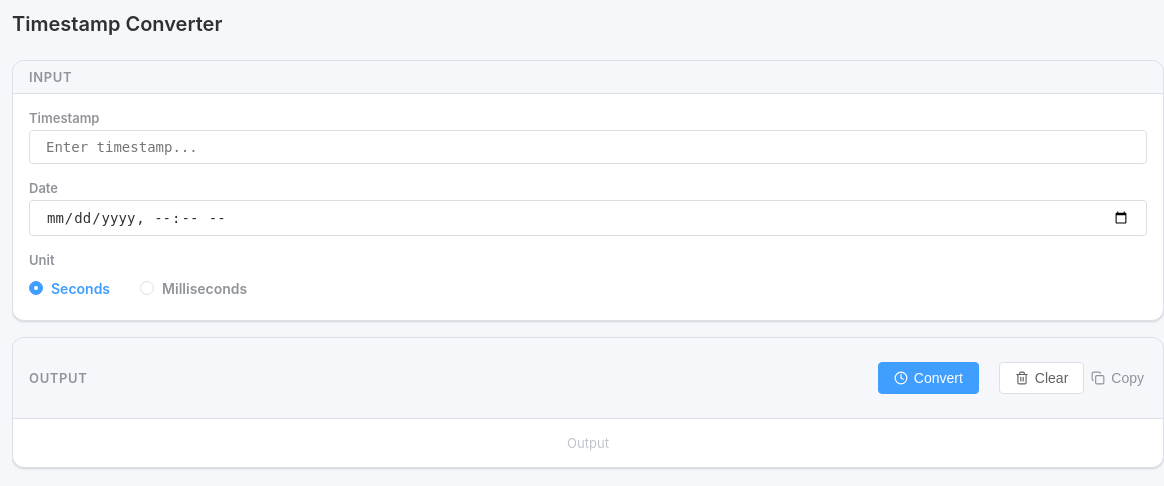
it: TimestampConverter › should clear input and output
Type "1609459200" into the field with class "timestamp-input" at (588, 147), box 29,130 -> 1147,164
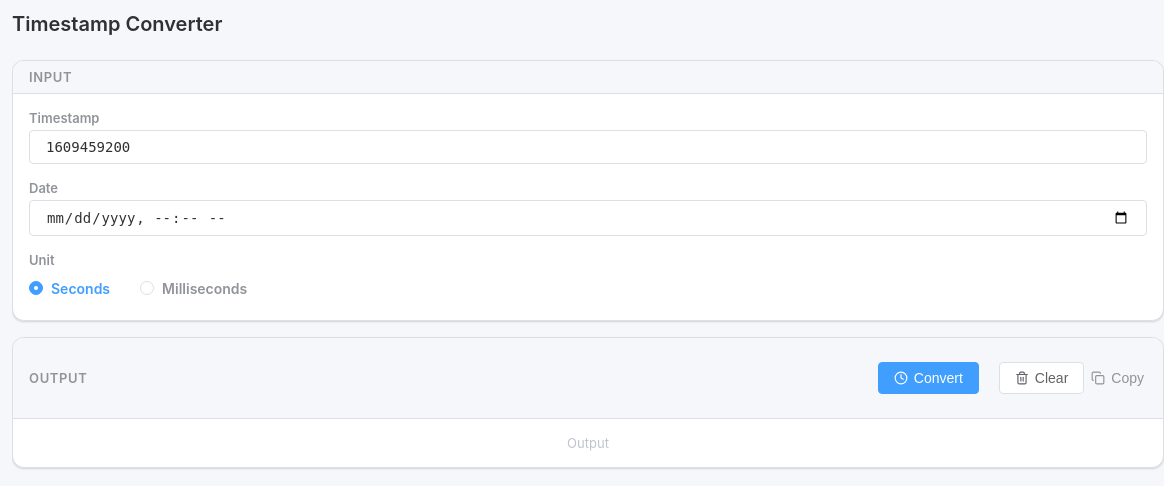
Click the button "Clear" at (1042, 378), box 999,362 -> 1084,394
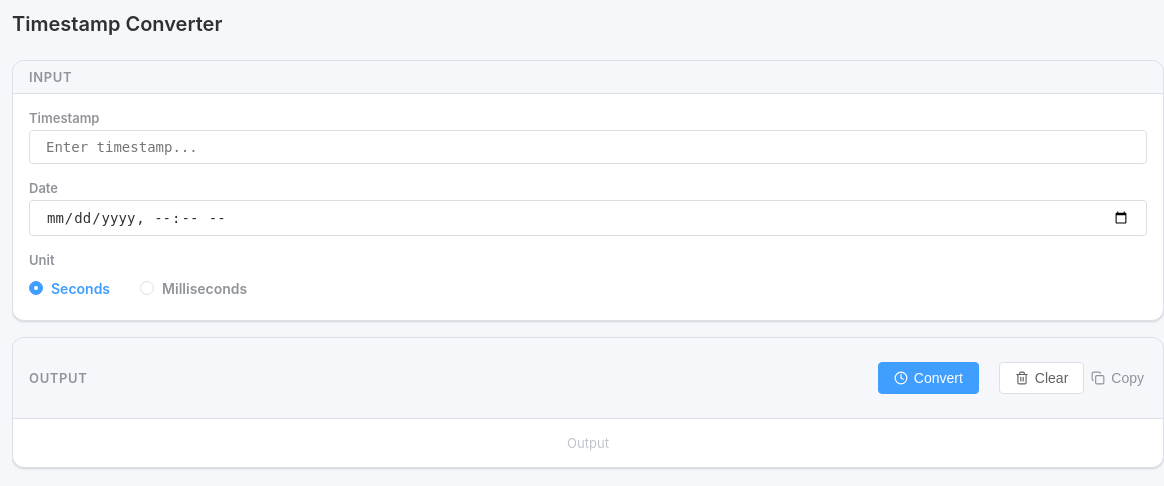
Check: the field with class "timestamp-input" is empty, box 29,130 -> 1147,164
